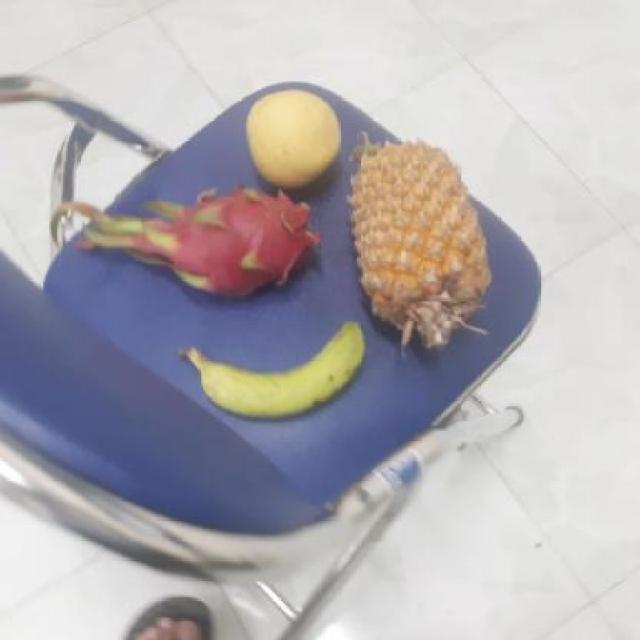banana: (194, 314, 361, 417)
dragon fruit: (132, 186, 312, 300)
pear: (241, 90, 344, 187)
pineapple: (344, 139, 487, 350)
